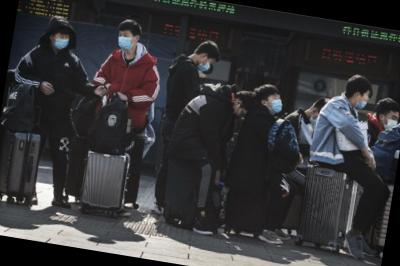mask_weared_incorrect: (355, 96, 371, 113)
with_mask: (116, 31, 135, 51), (53, 32, 71, 52), (267, 95, 285, 115), (384, 112, 400, 132), (198, 59, 214, 74)
